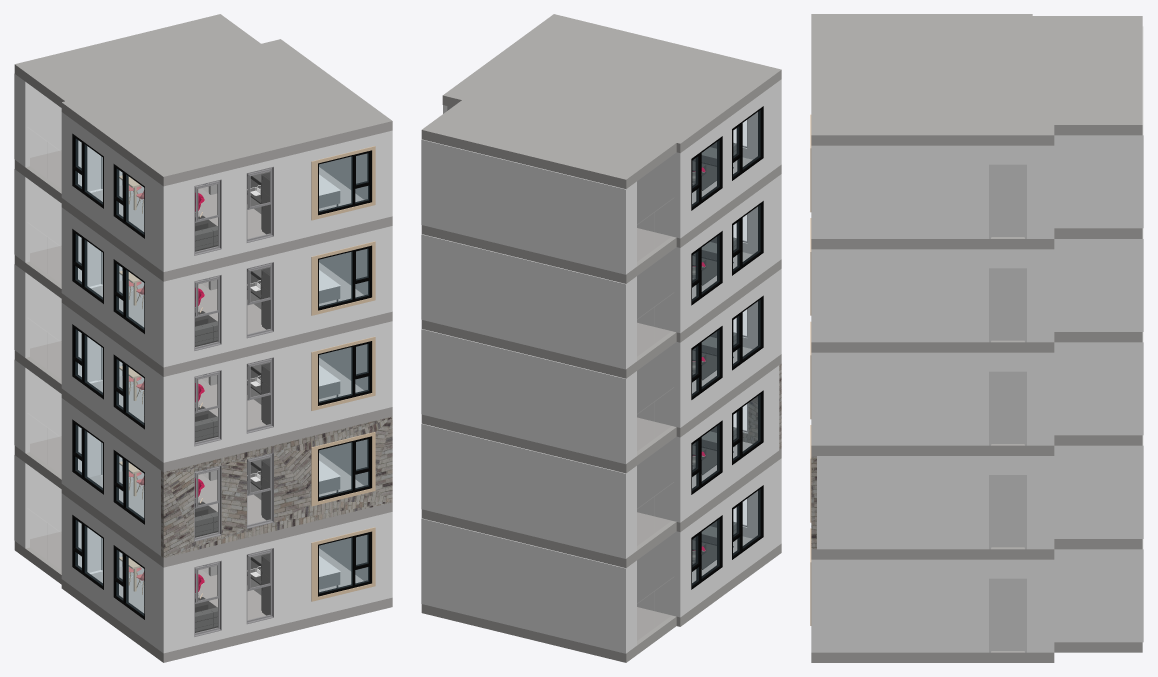
The picture shows the model from 3 angles, left to right: view 1: azimuth 30°, elevation 25°; view 2: azimuth 150°, elevation 25°; view 3: azimuth 270°, elevation 25°; orthographic projection. The views are drawn at different scales.
Parts seen in each view (by area): view 1: FamilyInstance Casework 12_Casework_Counter Top_EDR1 <644682, FamilyInstance Doors MAHG_Suite Door_Ext_Double_Sliding <644, Wall Walls <651102 Generic - 6<; view 2: FamilyInstance Casework 12_Casework_Counter Top_EDR1 <644682, FamilyInstance Doors MAHG_Suite Door_Ext_Double_Sliding <644, Wall Walls <651102 Generic - 6<; view 3: FamilyInstance Casework 12_Casework_Counter Top_EDR1 <644682, Wall Walls <651102 Generic - 6<.
Part boxes in pixels (bbox=[...]): FamilyInstance Casework 12_Casework_Counter Top_EDR1 <644682: bbox=[14, 14, 392, 662]; FamilyInstance Doors MAHG_Suite Door_Ext_Double_Sliding <644: bbox=[47, 139, 368, 615]; Wall Walls <651102 Generic - 6<: bbox=[161, 416, 392, 557]; FamilyInstance Casework 12_Casework_Counter Top_EDR1 <644682: bbox=[421, 14, 781, 662]; FamilyInstance Doors MAHG_Suite Door_Ext_Double_Sliding <644: bbox=[654, 110, 760, 627]; Wall Walls <651102 Generic - 6<: bbox=[742, 363, 781, 449]; FamilyInstance Casework 12_Casework_Counter Top_EDR1 <644682: bbox=[810, 14, 1143, 662]; Wall Walls <651102 Generic - 6<: bbox=[811, 456, 816, 549].
Size of the model in its own units: 25.17 by 51 by 29.2.
Materials: 3 (3 with a texture image).
